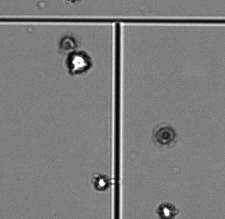Dead Cell: (155, 125, 176, 146), (57, 35, 77, 52)
Living Cell: (68, 50, 91, 75), (93, 174, 112, 190), (156, 203, 177, 217)
